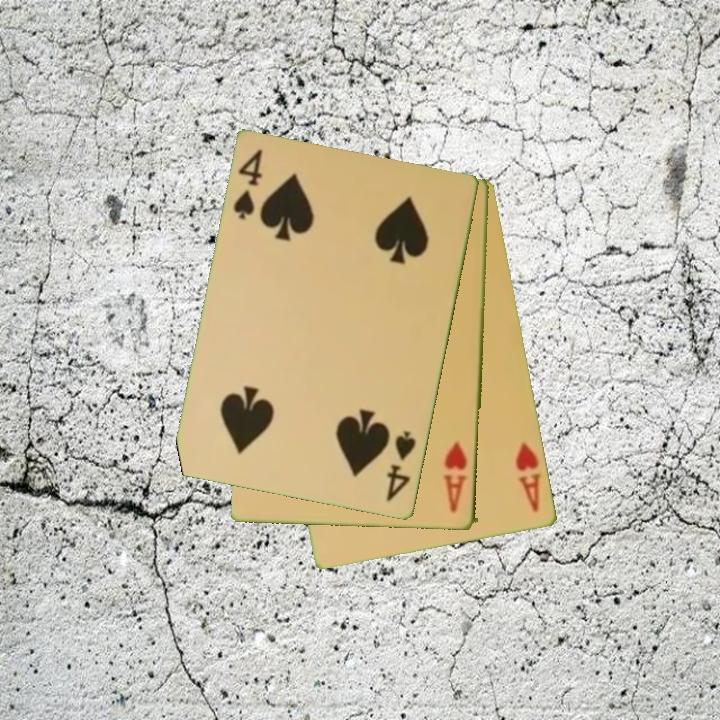4s: (383, 428, 419, 506), (230, 146, 266, 223)
Ah: (512, 438, 544, 516), (441, 438, 471, 516)
